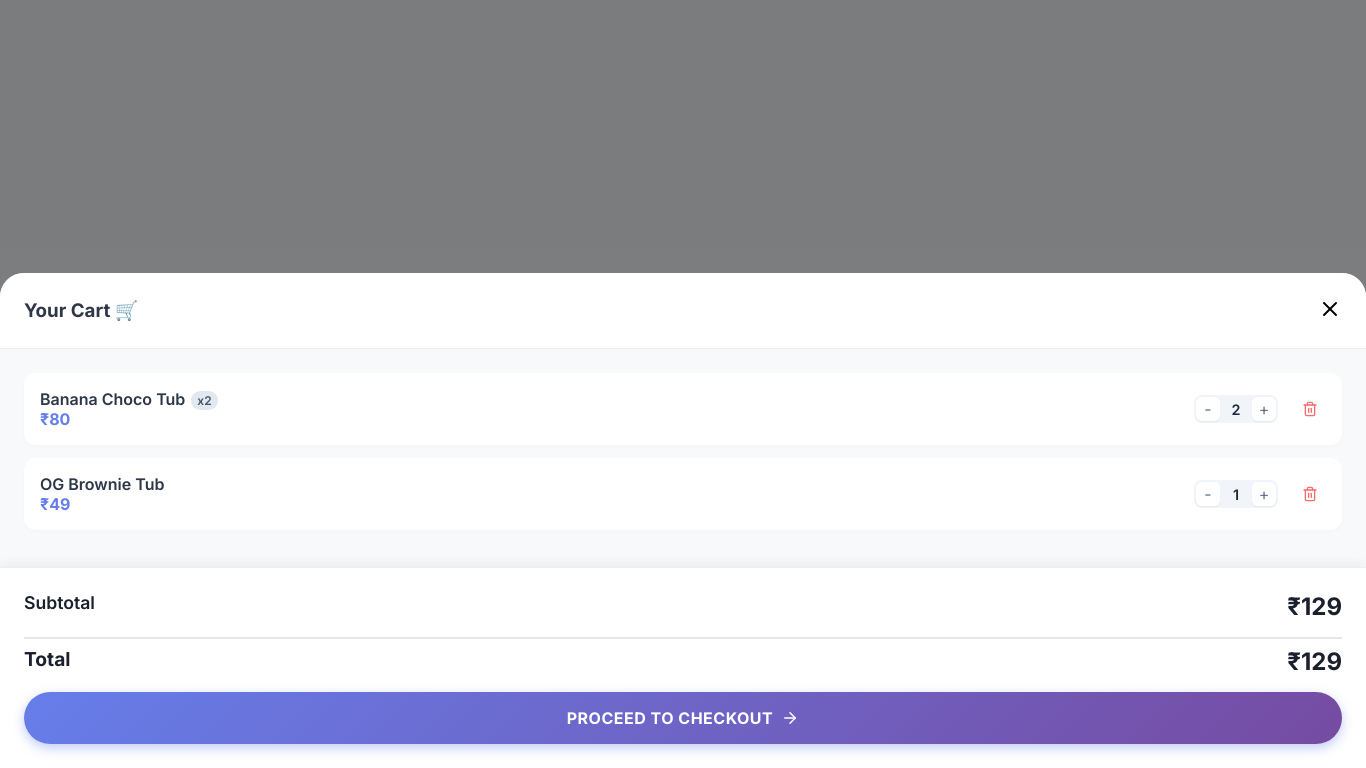
it: CartModal › Customer Info Step › should validate name
Click the button "Proceed to Checkout" at point(683, 718), box [24,692,1342,744]
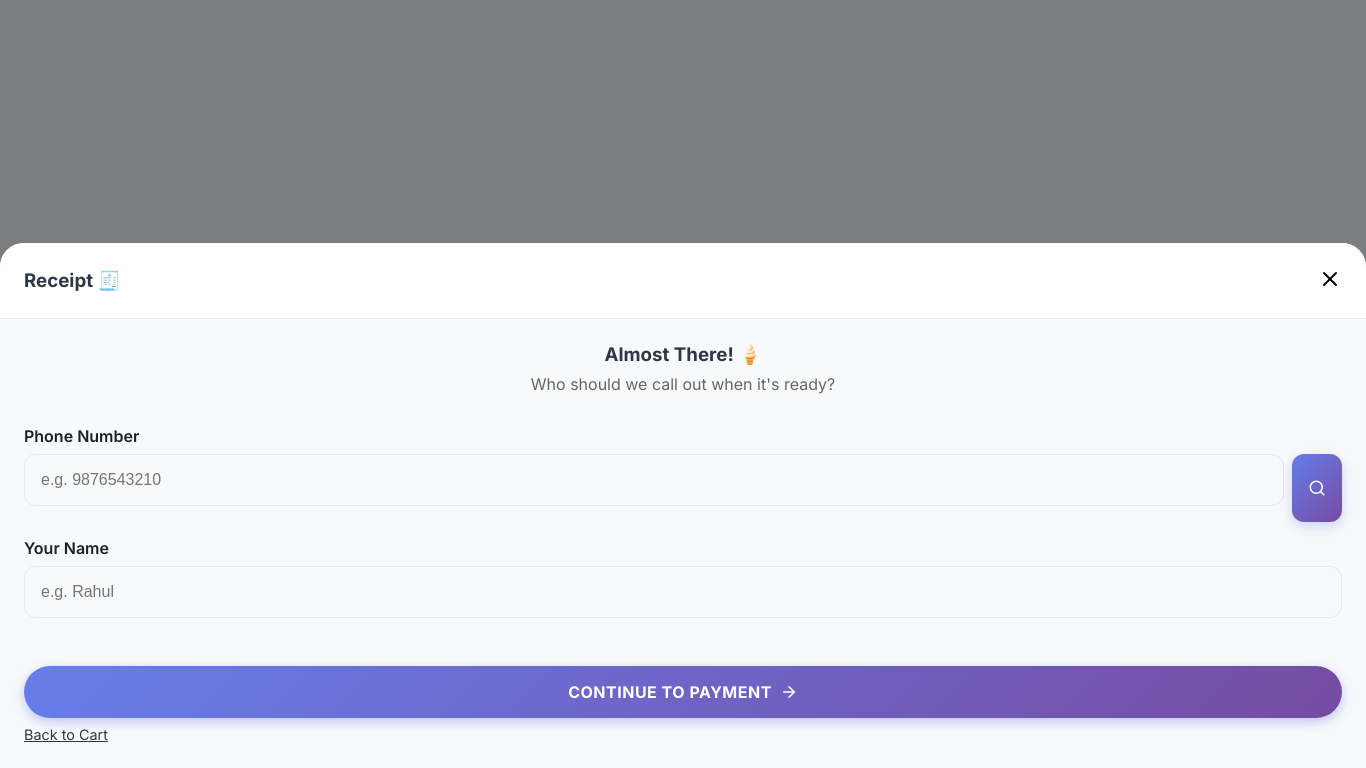
Type "9876543210" into the field with placeholder "e.g. 9876543210" at point(654, 480), box [24,454,1284,506]
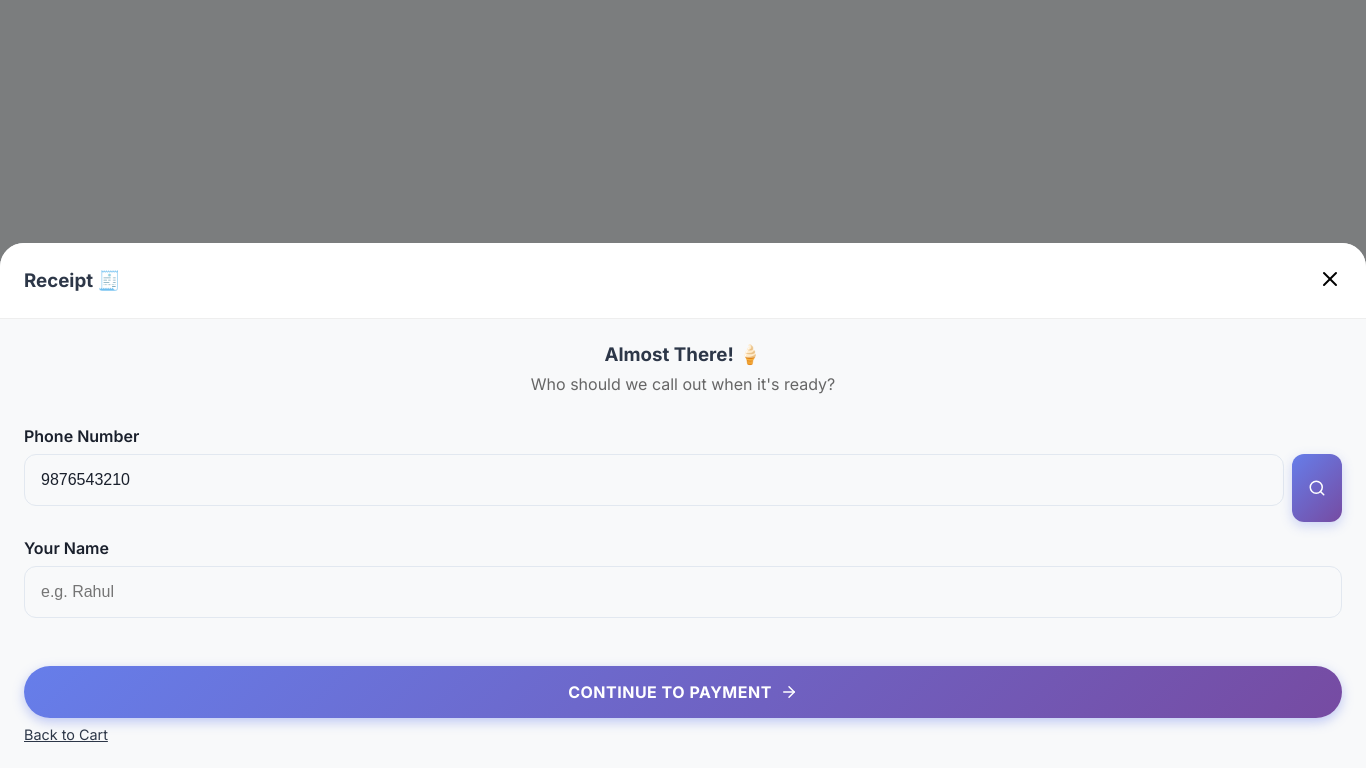
Type "A" into the field with placeholder "e.g. Rahul" at point(683, 592), box [24,566,1342,618]
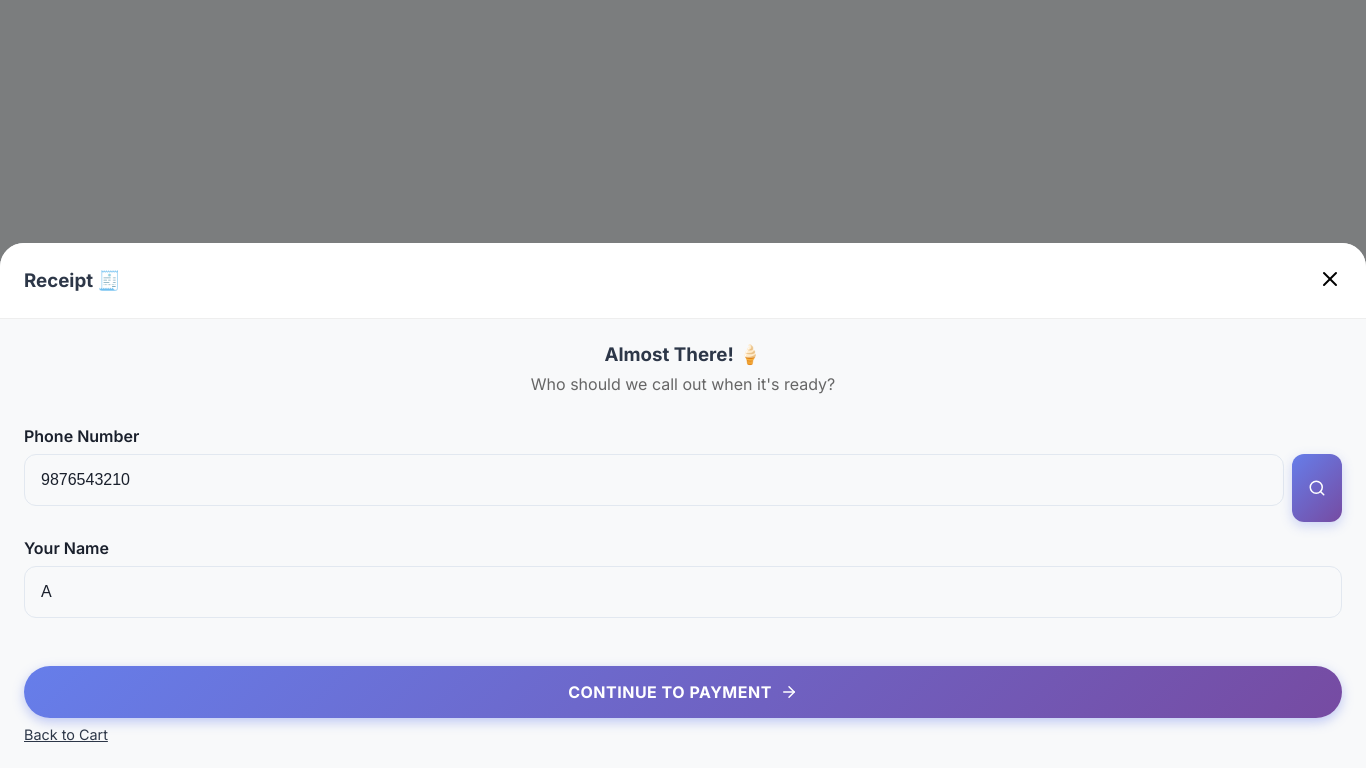
Click the button "Continue to Payment" at point(683, 692), box [24,666,1342,718]
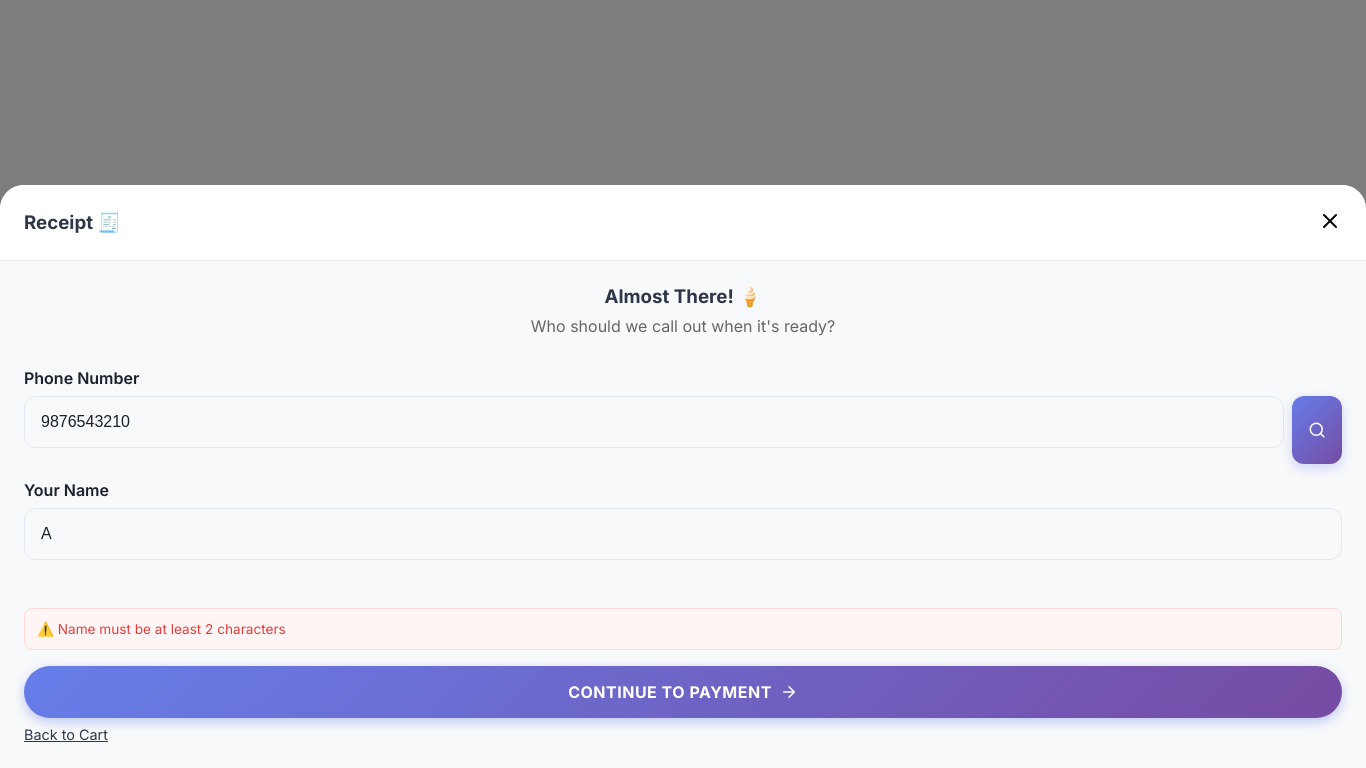
Expected: the text "⚠️ Name must be at least 2 characters" is shown, [24,608,1342,650]
